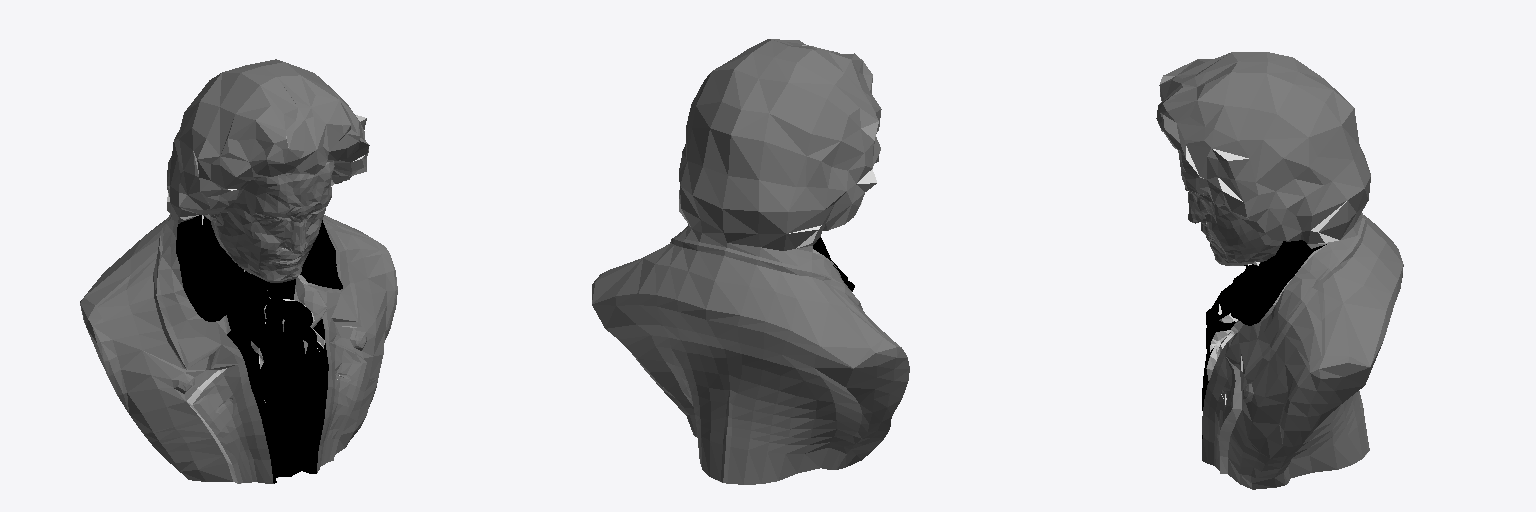
The model's file is beethoven.obj.
The picture shows the model from 3 angles: view 1: azimuth 30°, elevation 25°; view 2: azimuth 150°, elevation 25°; view 3: azimuth 270°, elevation 25°; orthographic projection.
Visible parts, largest first — view 1: Object.1; view 2: Object.1; view 3: Object.1.
Boxes of the visible parts, box(x1,y1,x2,y2) form: Object.1: box(80, 59, 397, 483); Object.1: box(592, 39, 909, 484); Object.1: box(1156, 52, 1403, 489).
Bounding box in the file's own units: 92.97 × 116 × 66.67.